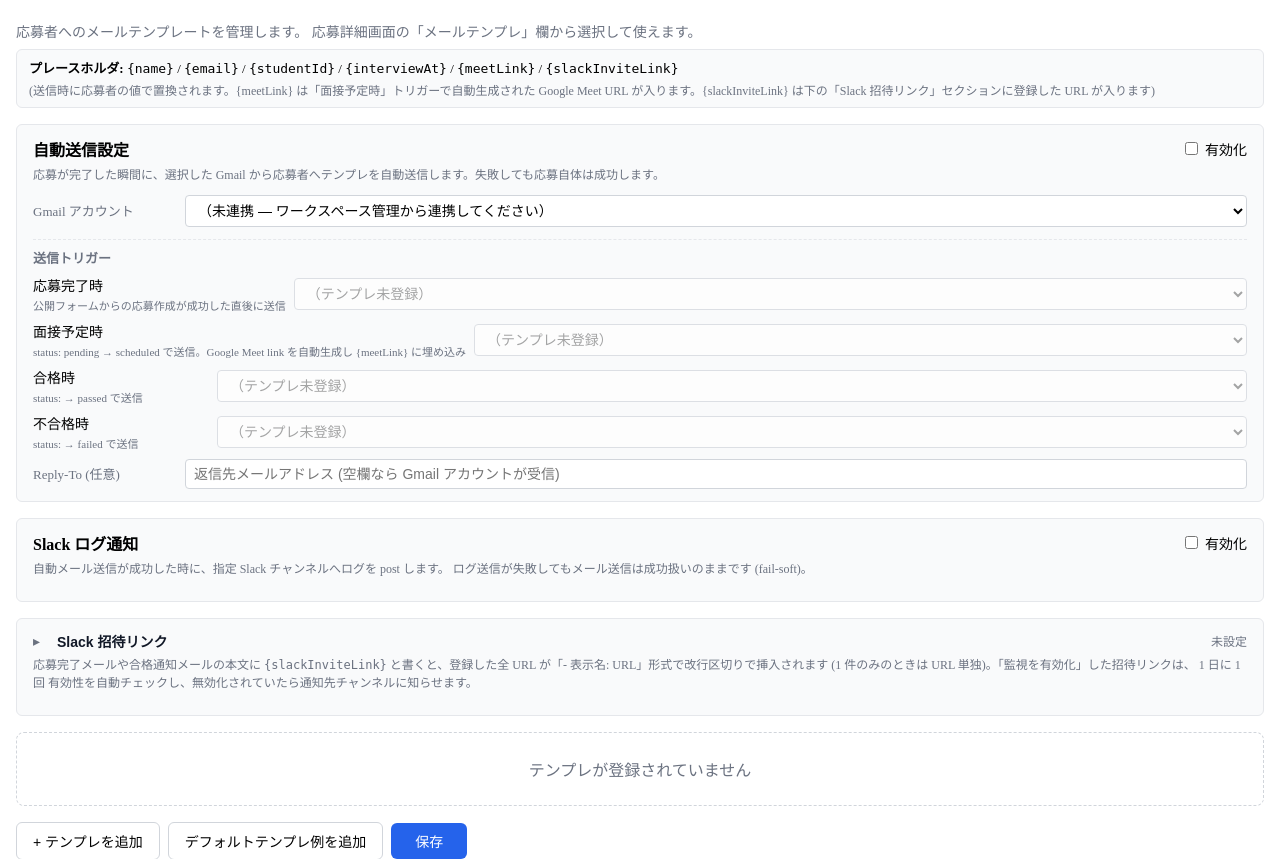
EmailTemplatesEditor smoke (Phase4-4 分割対象 番人) › LogToSlackSection: メッセージ編集でプレースホルダ一覧とプレビューが出る
The image size is (1280, 859).
What coordinates should you click on to do the following:
click the checkbox labelled "有効化" in the row of "Slack ログ通知"
I would click on:
 (1192, 543)
Its box is [1185, 536, 1198, 549].
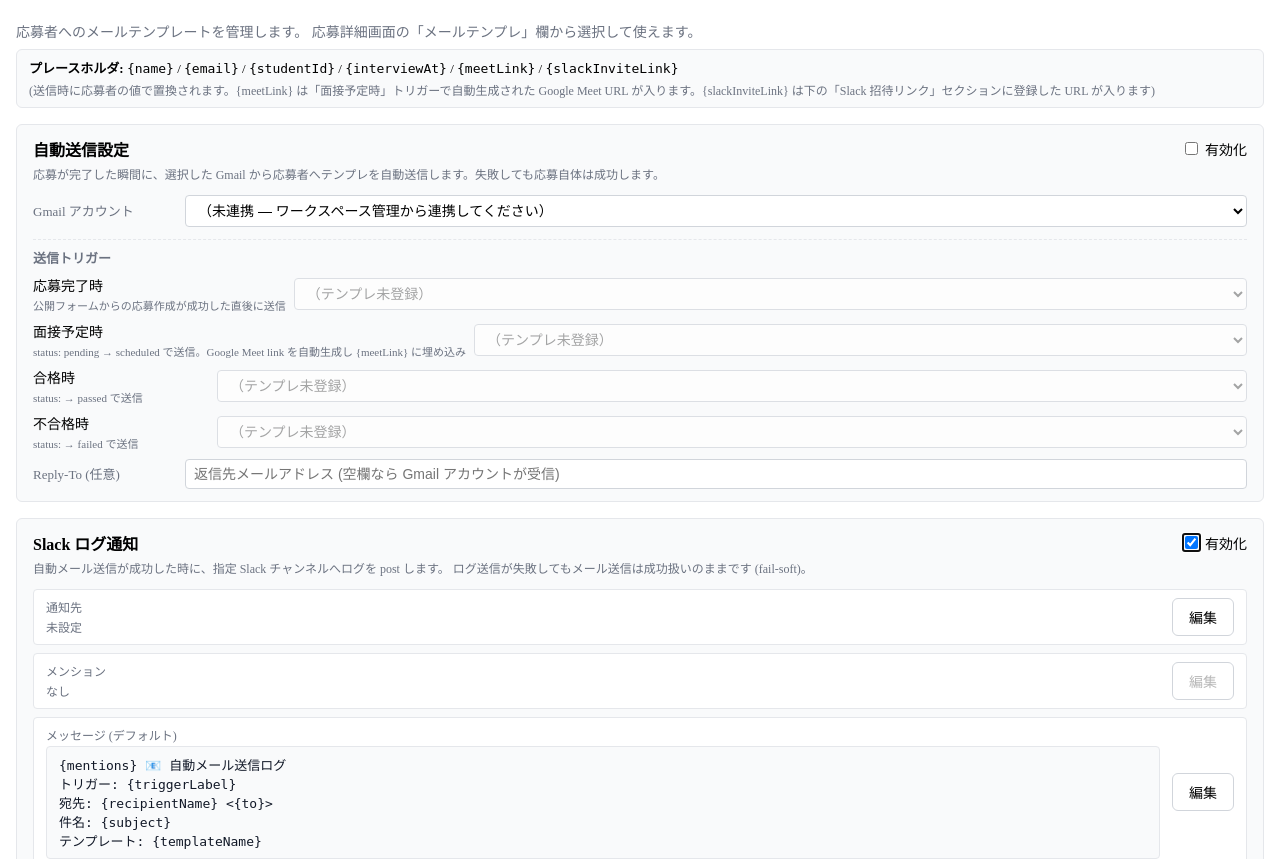
What coordinates should you click on to do the following:
click the 3rd button "編集"
I would click on:
 (1203, 792)
Its box is [1172, 773, 1234, 811].
(page scrolled)
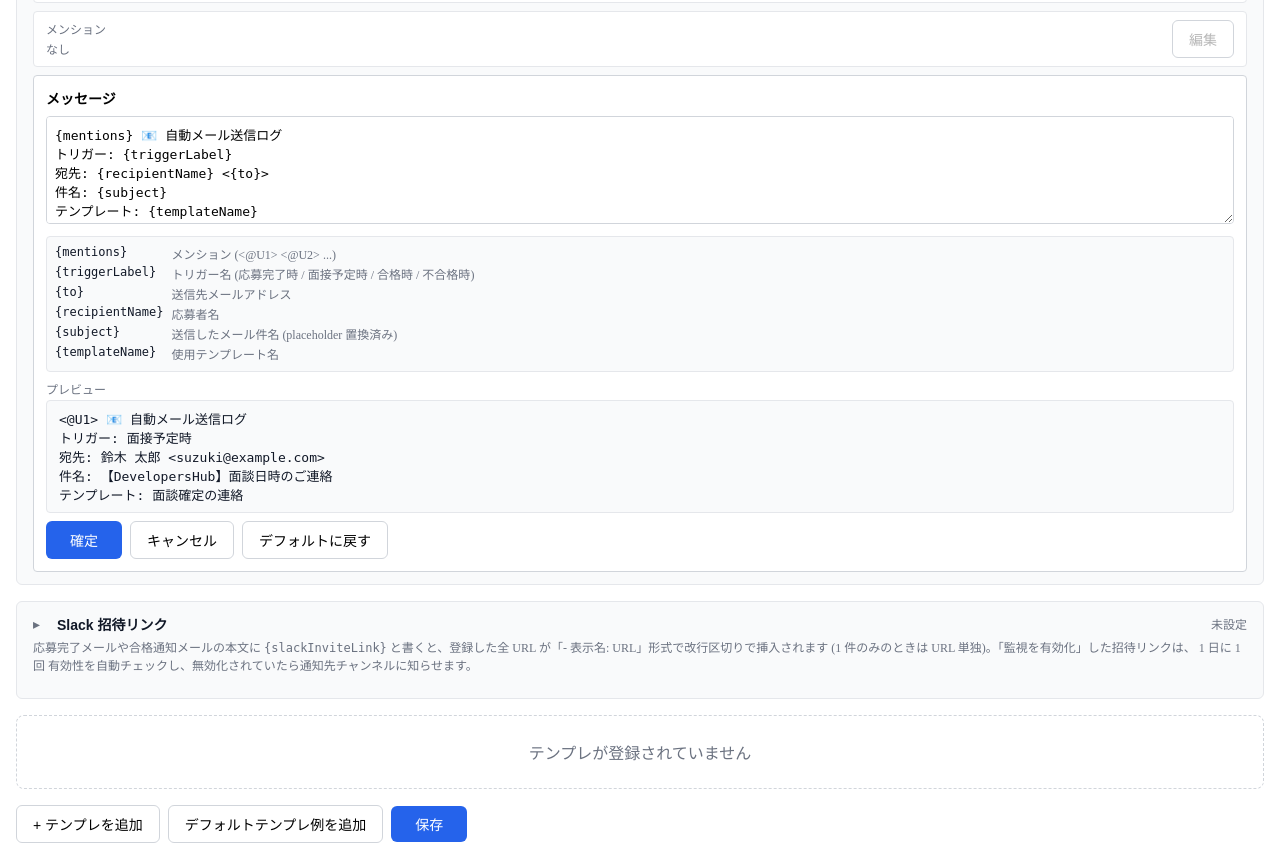
expect the text "{mentions}" is shown: met, box [55, 245, 127, 259]
expect the text "{triggerLabel}" is shown: met, box [55, 265, 163, 283]
expect the text "プレビュー" is shown: met, box [46, 383, 106, 397]
